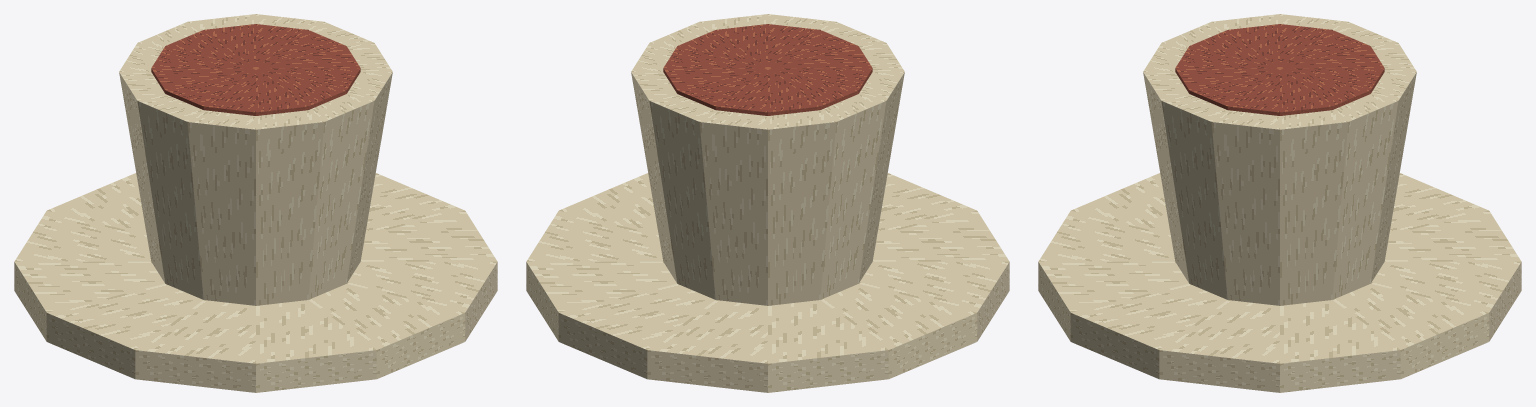
Rendered from cafe_cup_plate.gltf.
The picture shows the model from 3 angles, left to right: view 1: azimuth 30°, elevation 25°; view 2: azimuth 150°, elevation 25°; view 3: azimuth 270°, elevation 25°; orthographic projection.
Parts seen in each view (by area): view 1: plate, cup, coffee; view 2: plate, cup, coffee; view 3: plate, cup, coffee.
Boxes of the visible parts, <box> form: plate: <box>14,173,497,392</box>; cup: <box>119,14,392,305</box>; coffee: <box>151,24,360,115</box>; plate: <box>526,173,1009,392</box>; cup: <box>631,14,904,305</box>; coffee: <box>663,24,872,115</box>; plate: <box>1038,173,1521,392</box>; cup: <box>1143,14,1416,305</box>; coffee: <box>1175,24,1384,115</box>.
Size of the model in its own units: 0.375 by 0.1906 by 0.375.
2 materials, 2 textured.
